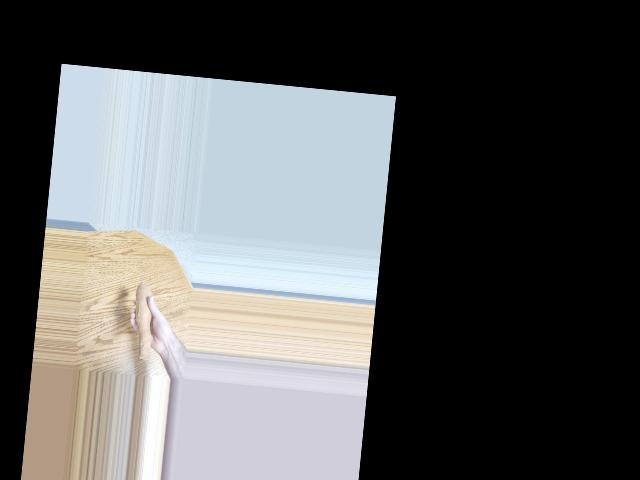sweet_potato: (127, 280, 158, 363)
